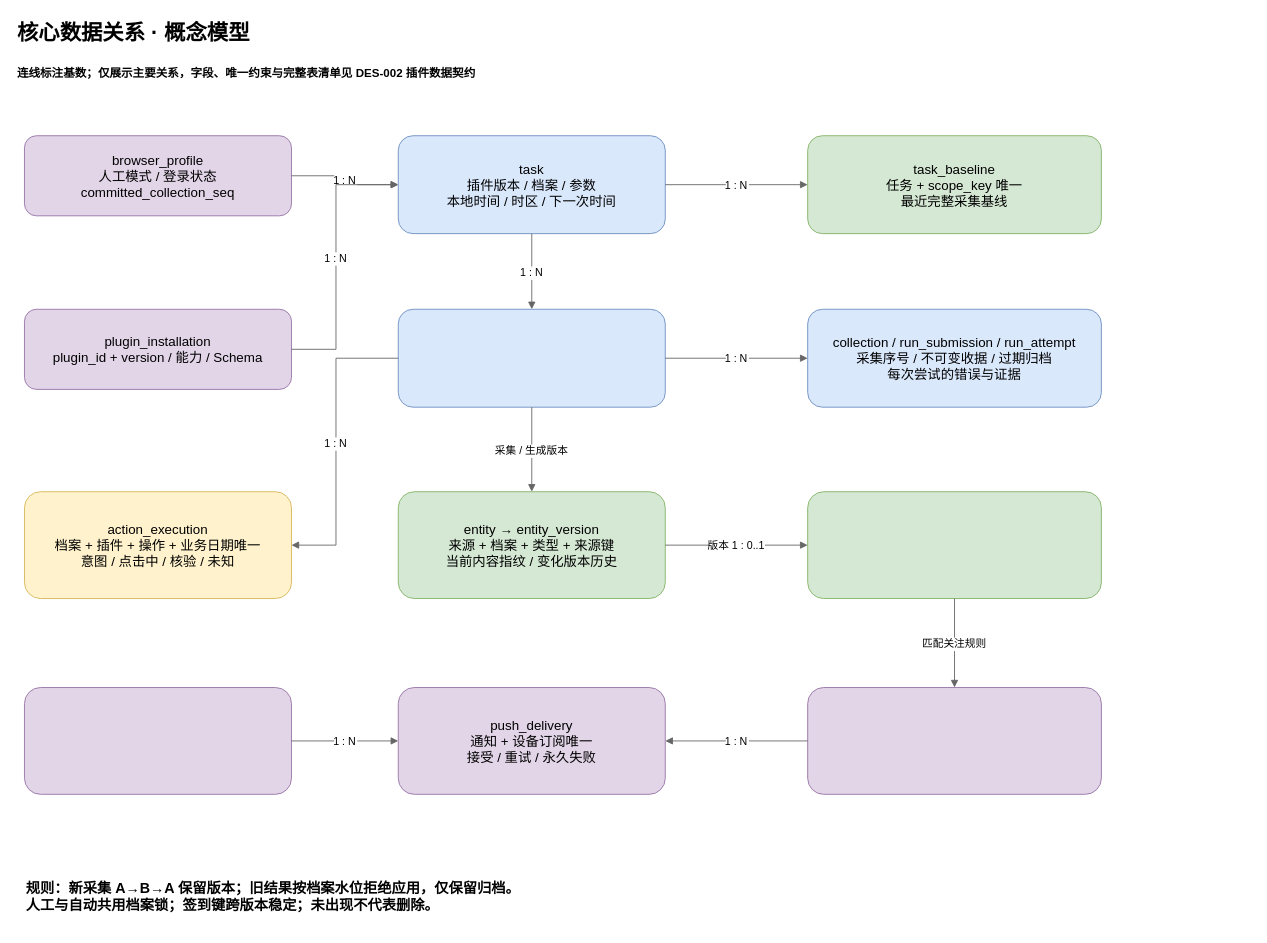
Some shapes in this 1267 by 943 pixel diagram are drawn without their labels. Each missing label, with the centre of its shape:
"change_event 每个新版本对应唯一事件 新增 / 重要字段变化" belongs at [954,545].
"notification / outbox 站内记录 + 事务待发送事件 通知去重 / 已读状态" belongs at [954,740].
"push_subscription 个人账号 / 多设备 endpoint 唯一 / 公钥与认证信息" belongs at [157,740].
"task_run 计划执行唯一 / 状态 / 阶段 attempt / 租约 / fencing token" belongs at [531,357].
